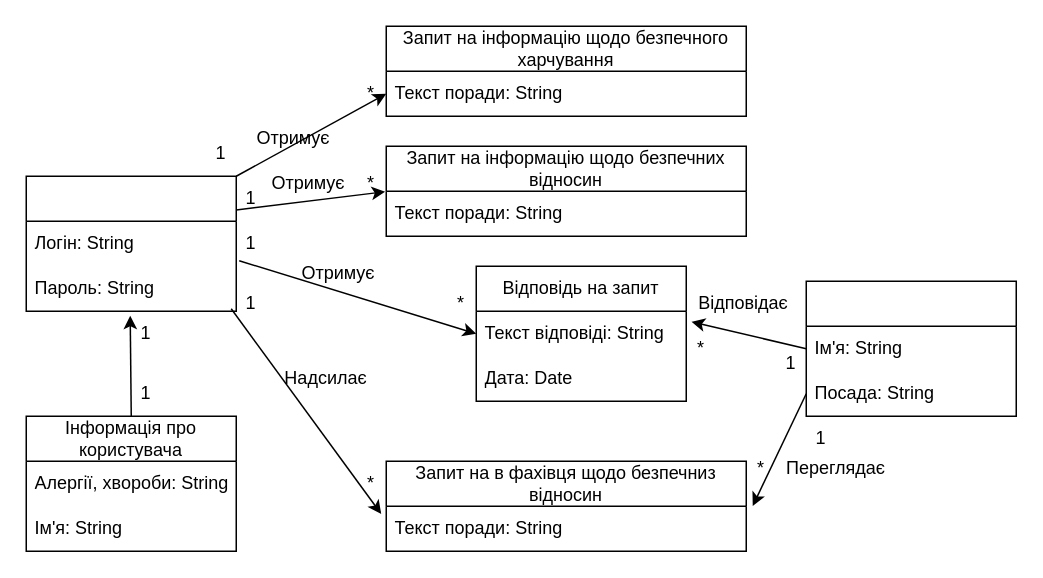
Some shapes in this 1043 by 578 pixel diagram are drawn without their labels. The box of each missing label's shape, as (x1, y1, x2, y2) in pixels:
Експерт з особистих відносин: (805, 280, 1016, 416)
Користувач: (25, 175, 236, 311)
